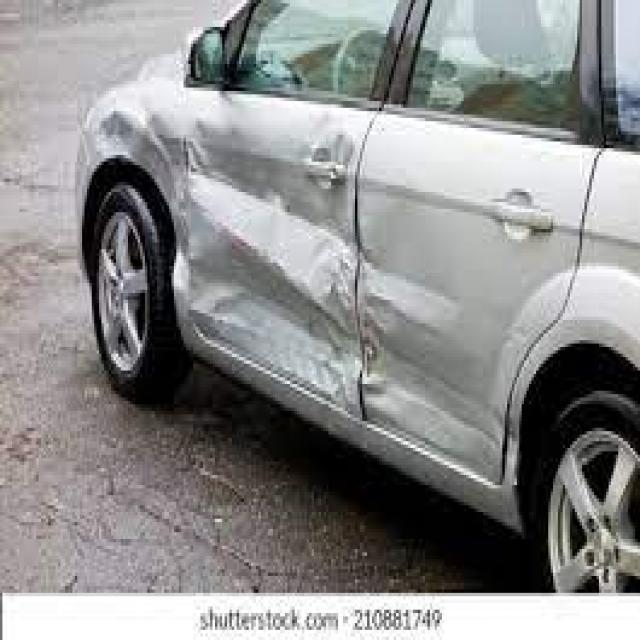damaged-door: (178, 0, 378, 437)
